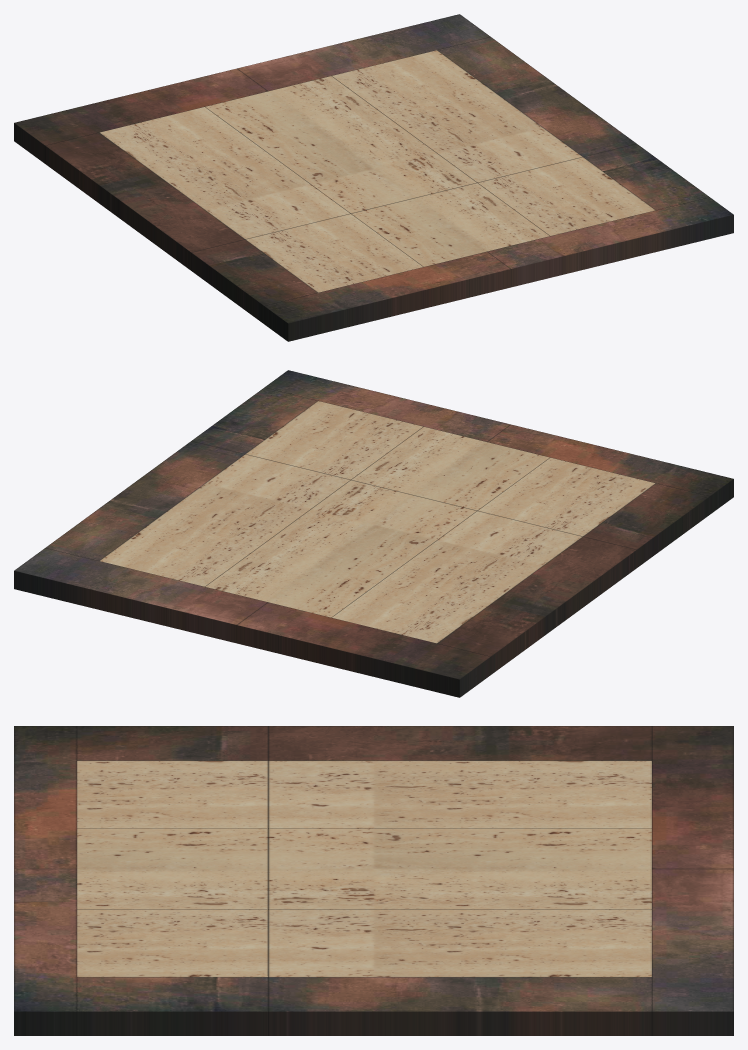
3 renders of one model, top to bottom at view 1: azimuth 30°, elevation 25°; view 2: azimuth 150°, elevation 25°; view 3: azimuth 270°, elevation 25°, orthographic. The views are drawn at different scales.
Visible parts, largest first — view 1: Floor_8T7_8T4; view 2: Floor_8T7_8T4; view 3: Floor_8T7_8T4.
Part boxes in pixels (x1=…): Floor_8T7_8T4: x1=14, y1=14, x2=733, y2=341; Floor_8T7_8T4: x1=14, y1=370, x2=733, y2=697; Floor_8T7_8T4: x1=14, y1=726, x2=733, y2=1035.
Size of the model in its own units: 1.61 by 0.0631 by 1.72.
Materials: 1 (1 with a texture image).
